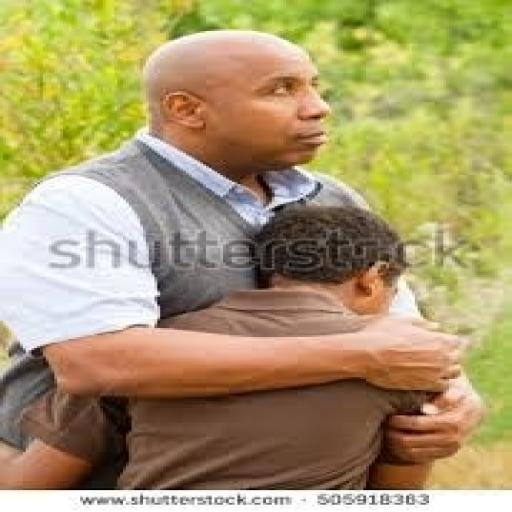hugging: (0, 27, 483, 490)
